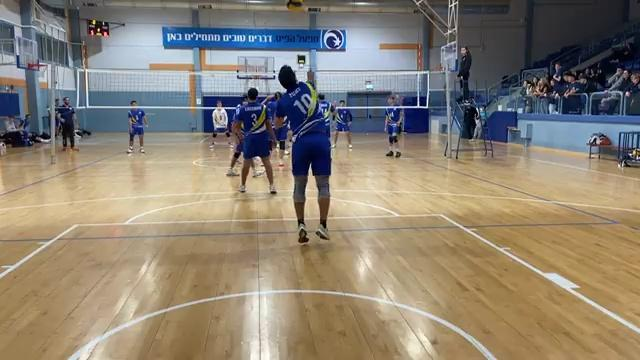ball: (283, 0, 305, 12)
